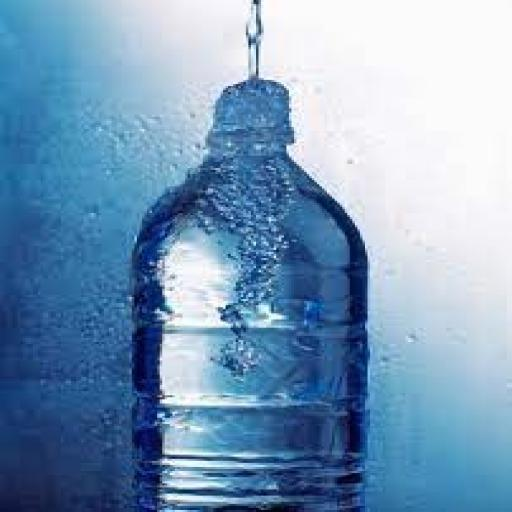bottle: (119, 73, 382, 512)
